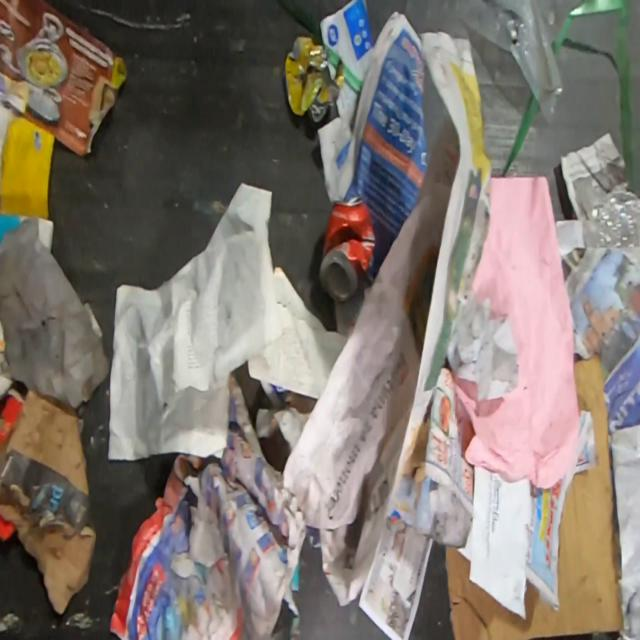cardboard: (445, 354, 624, 639), (0, 388, 97, 617)
metal: (317, 194, 377, 305), (283, 36, 347, 123)
soft_plastic: (404, 0, 565, 124), (582, 189, 640, 249)
